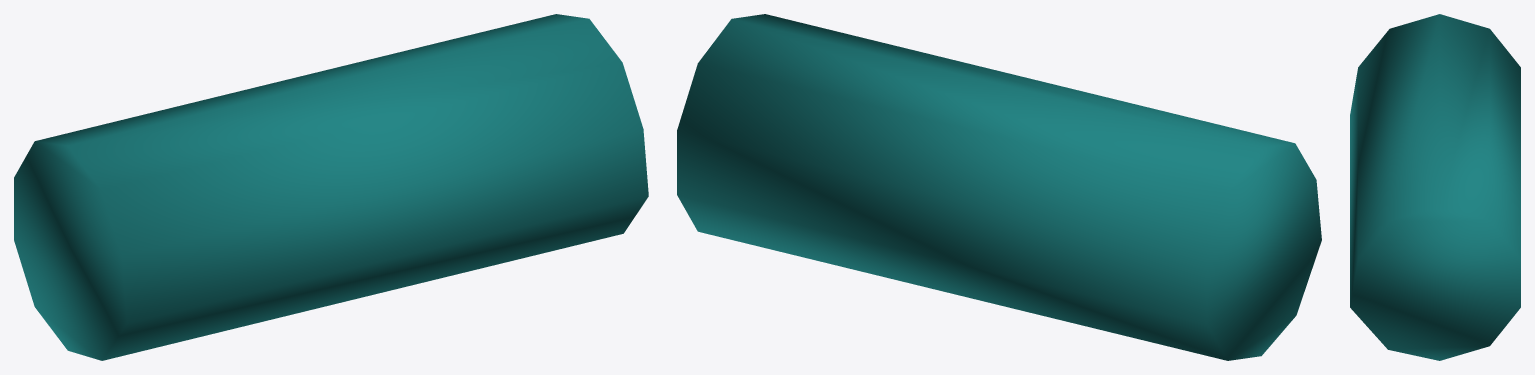
File: yoga_mat_collider.fbx
The picture shows the model from 3 angles, left to right: view 1: azimuth 30°, elevation 25°; view 2: azimuth 150°, elevation 25°; view 3: azimuth 270°, elevation 25°; orthographic projection. The views are drawn at different scales.
Parts seen in each view (by area): view 1: yoga_mat_collider; view 2: yoga_mat_collider; view 3: yoga_mat_collider.
Part boxes in pixels (left/top/right/bottom): yoga_mat_collider: left=14, top=14, right=648, bottom=360; yoga_mat_collider: left=677, top=14, right=1321, bottom=360; yoga_mat_collider: left=1350, top=14, right=1520, bottom=360.
Bounding box in the file's own units: 61.13 × 22.93 × 22.96.
